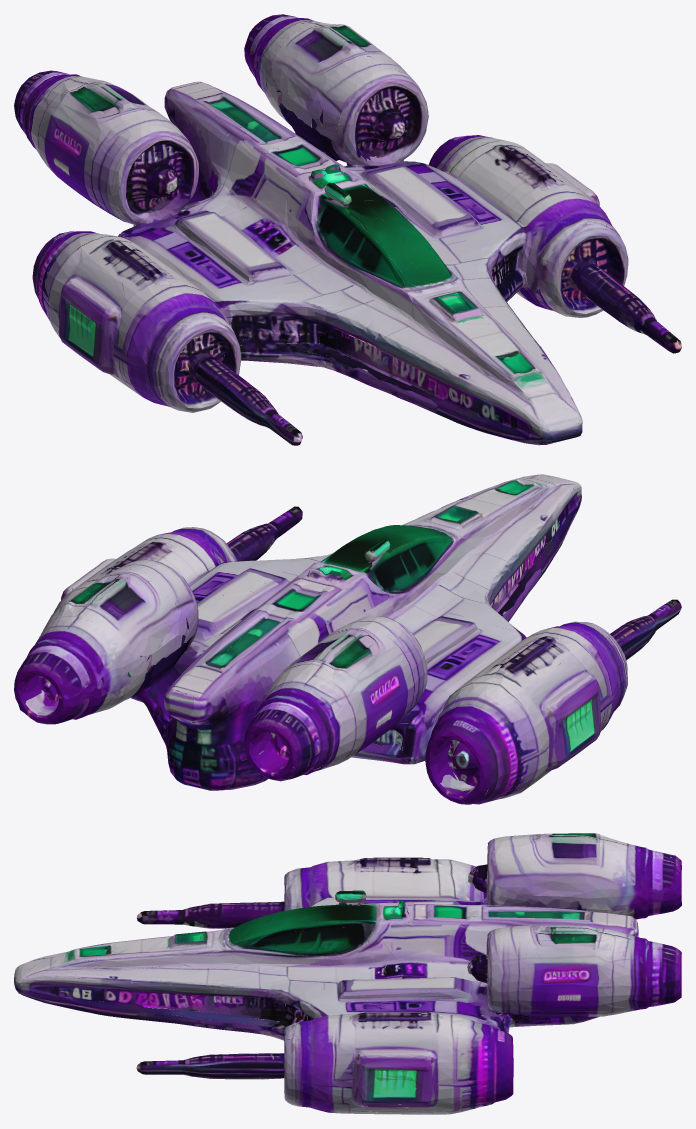
Rendered from type0.obj.
3 views of the same model, one above another, from view 1: azimuth 30°, elevation 25°; view 2: azimuth 150°, elevation 25°; view 3: azimuth 270°, elevation 25° (orthographic). The views are drawn at different scales.
Size of the model in its own units: 1.41 by 0.5007 by 2.
Materials: 1 (1 with a texture image).
